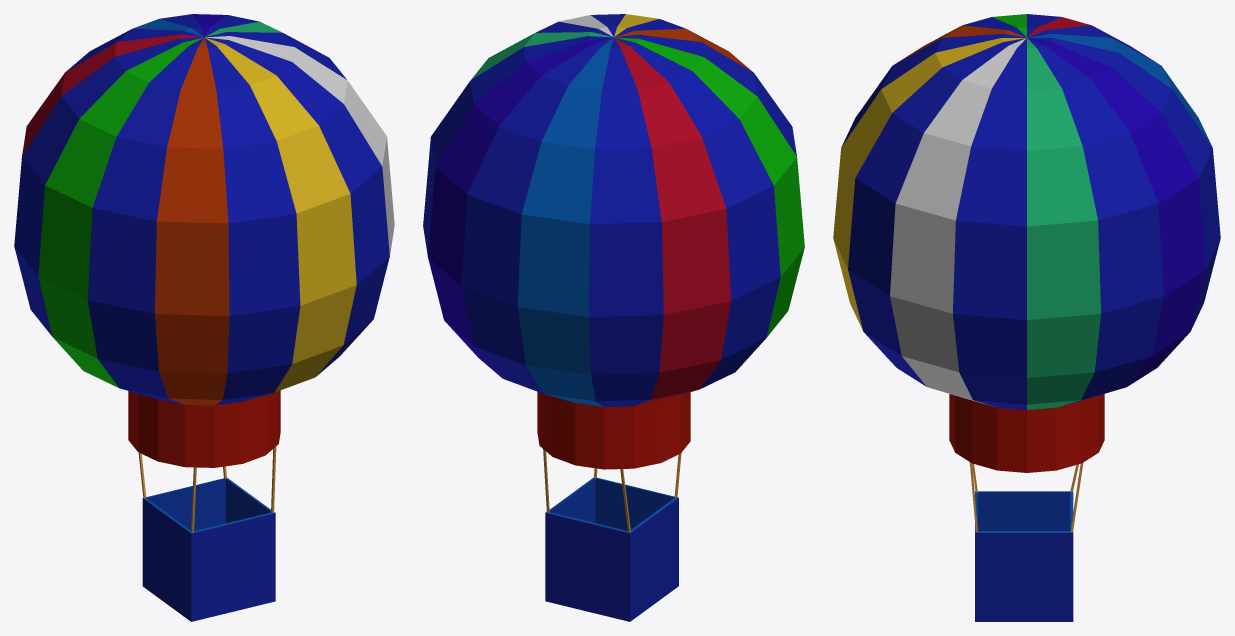
File: AirBallonsEddie.obj
3 renders of one model, left to right at view 1: azimuth 30°, elevation 25°; view 2: azimuth 150°, elevation 25°; view 3: azimuth 270°, elevation 25°, orthographic.
Visible parts, largest first — view 1: Ballon_Cylinder.002, Box_Cube.003; view 2: Ballon_Cylinder.002, Box_Cube.003; view 3: Ballon_Cylinder.002, Box_Cube.003.
Part boxes in pixels (x1,y1,x2,y2): Ballon_Cylinder.002: [14, 14, 394, 467]; Box_Cube.003: [142, 478, 275, 621]; Ballon_Cylinder.002: [423, 14, 804, 469]; Box_Cube.003: [545, 477, 678, 621]; Ballon_Cylinder.002: [833, 14, 1220, 472]; Box_Cube.003: [975, 491, 1073, 621].
Size of the model in its own units: 11.17 by 17.86 by 11.17.
